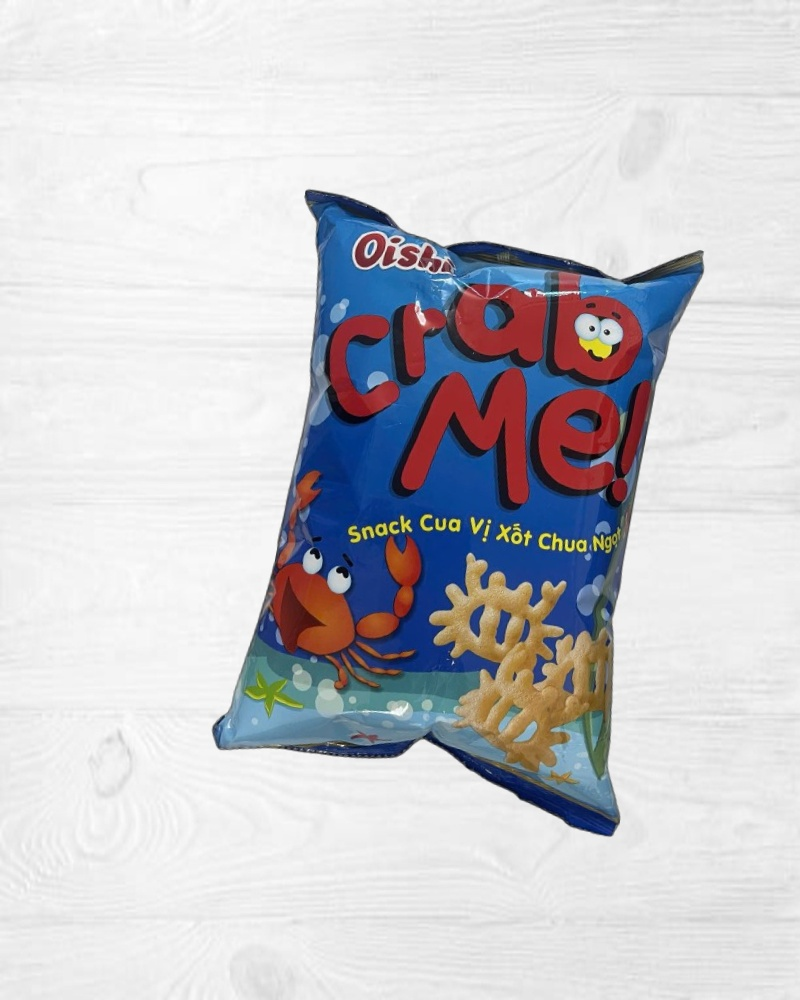Snack chay: (205, 182, 720, 840)
